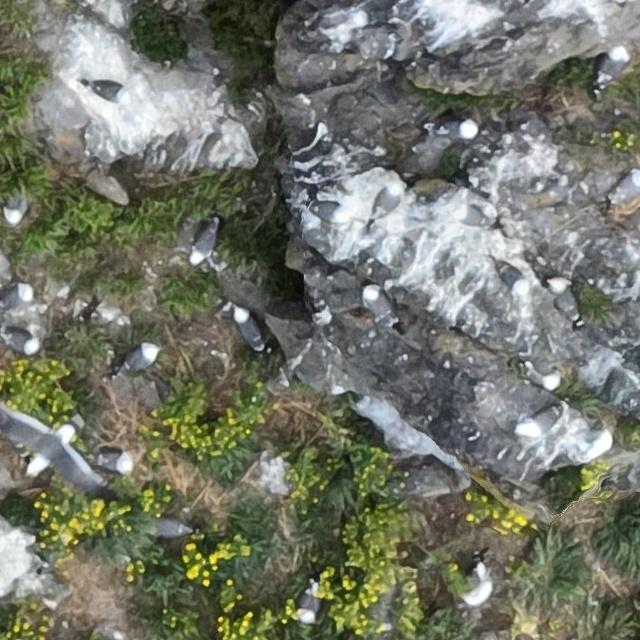F: (3, 396, 101, 493)
umineko: (459, 561, 494, 606), (516, 409, 562, 437), (374, 182, 402, 226), (4, 180, 29, 226), (364, 286, 394, 322), (599, 48, 628, 82), (312, 200, 348, 227), (236, 309, 262, 346), (120, 344, 156, 369), (191, 224, 215, 261), (297, 582, 319, 620), (494, 262, 526, 288), (556, 283, 578, 319), (96, 451, 132, 472), (4, 331, 38, 353), (614, 172, 640, 200), (528, 364, 558, 388), (89, 82, 124, 101), (1, 285, 31, 306), (441, 121, 474, 140), (156, 518, 190, 536)
